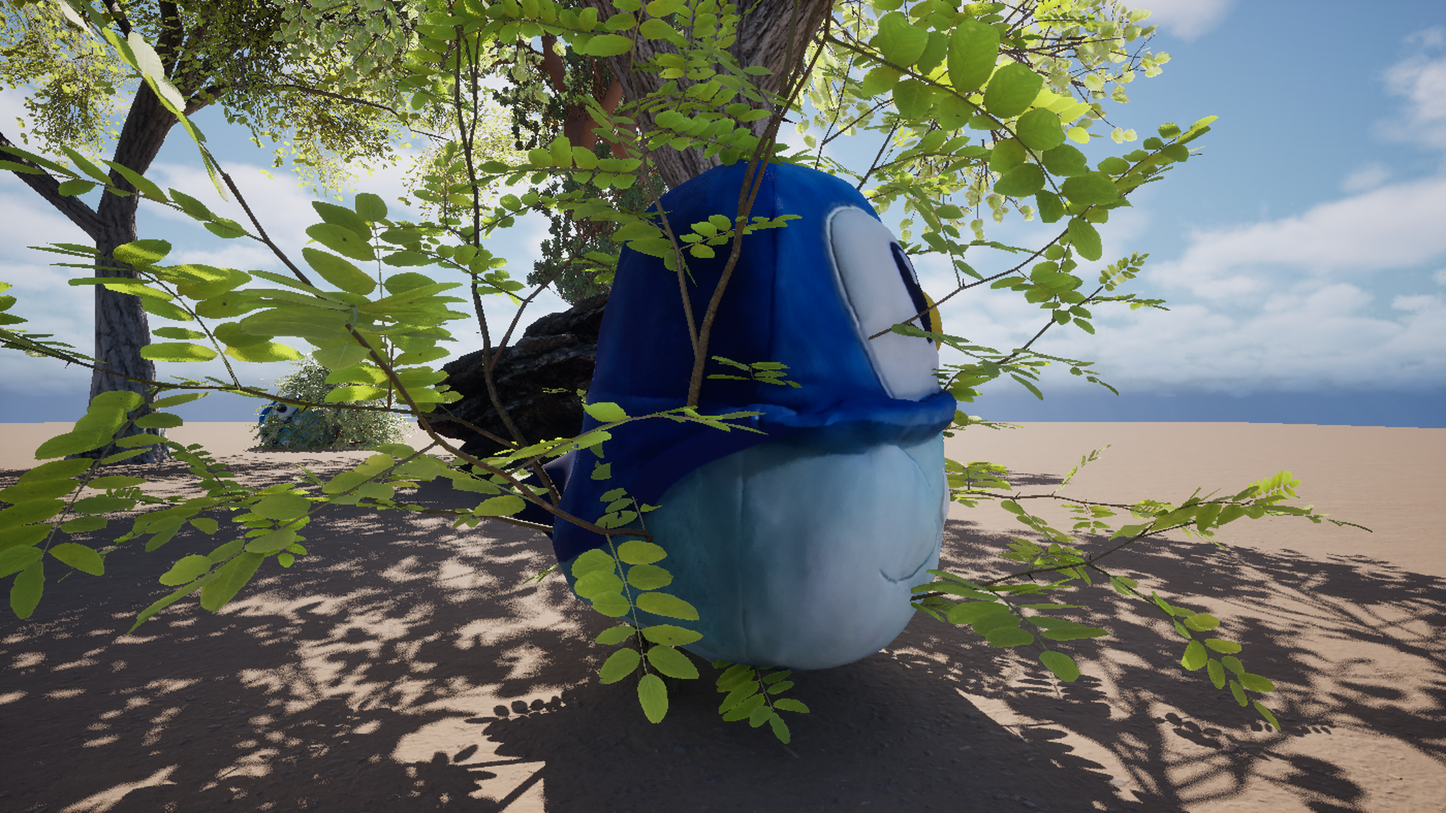Piplup: (314, 36, 1132, 777)
